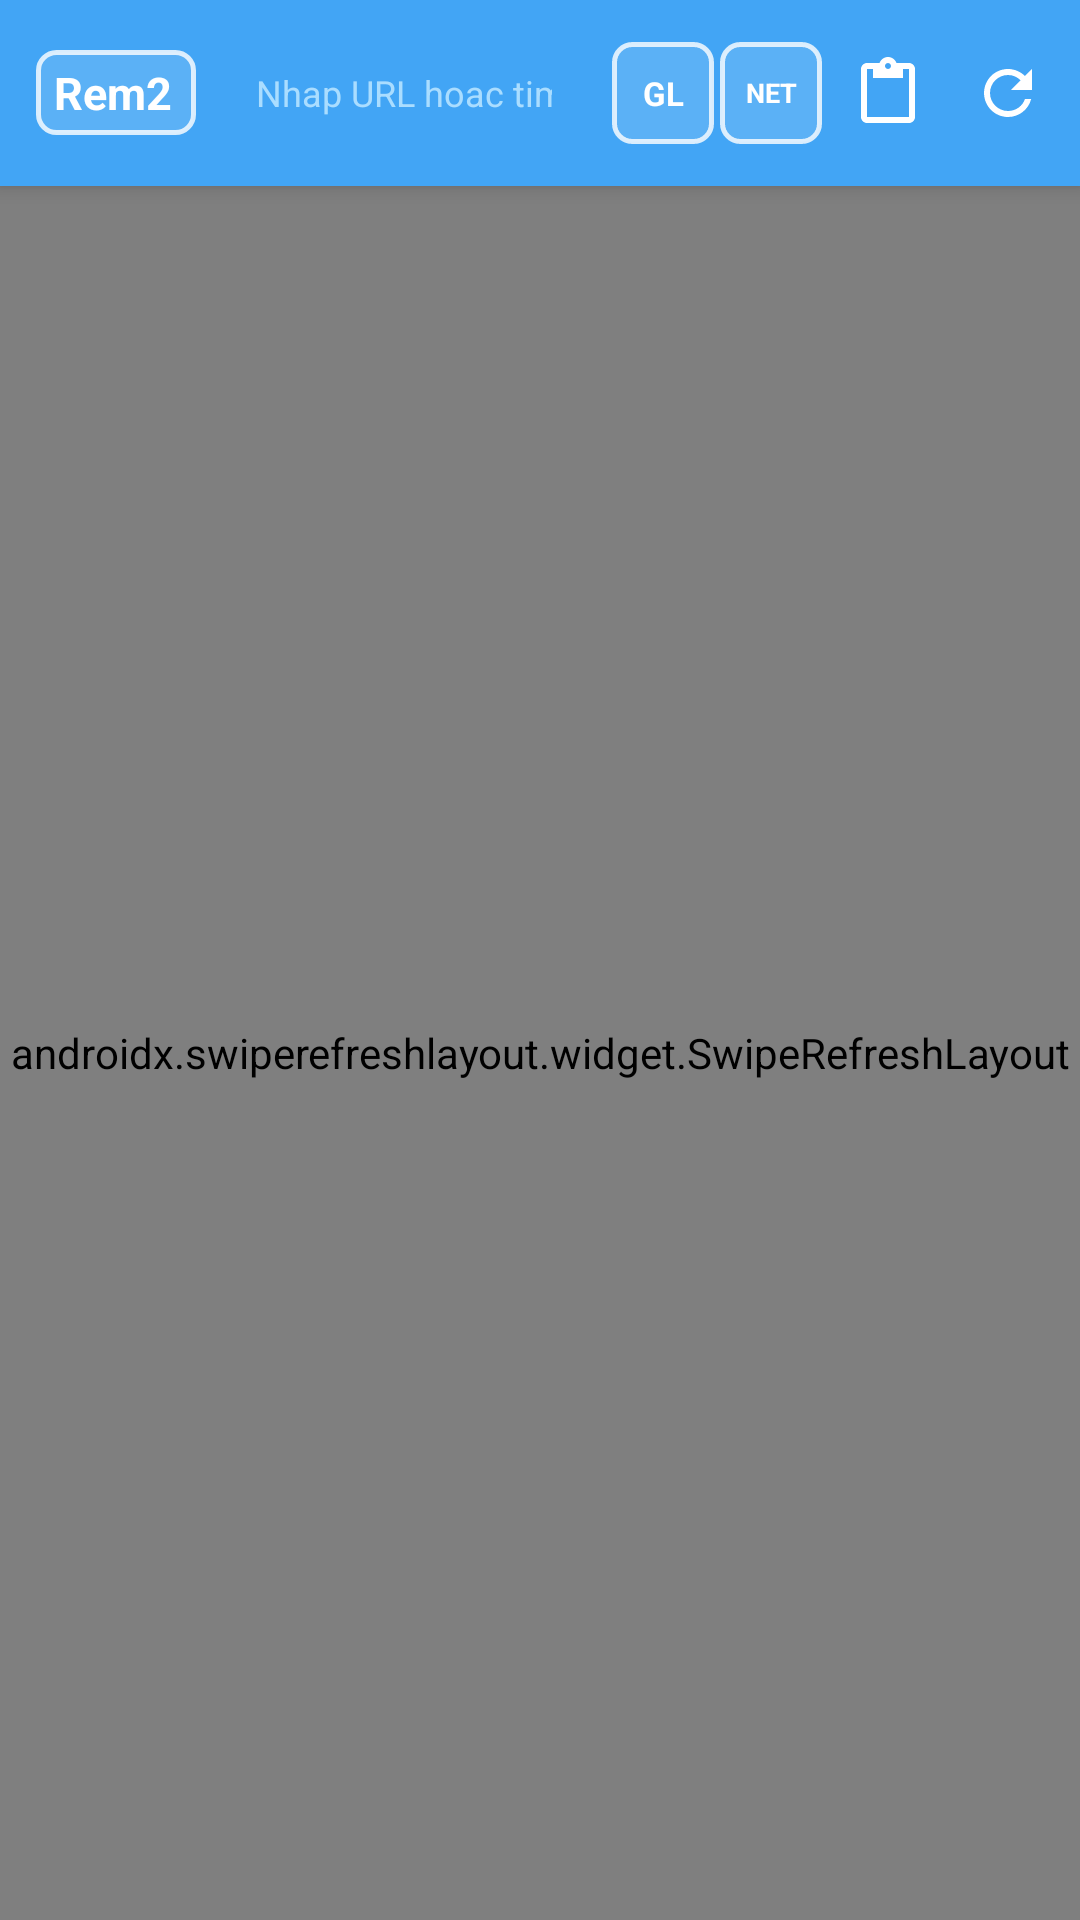

Icons on this 1080 × 1920 Android screen, each with its box as [x1=x1, y1=y1, x2=x2, y2=y2]:
Tai lai trang: [x1=984, y1=69, x2=1032, y2=117]
